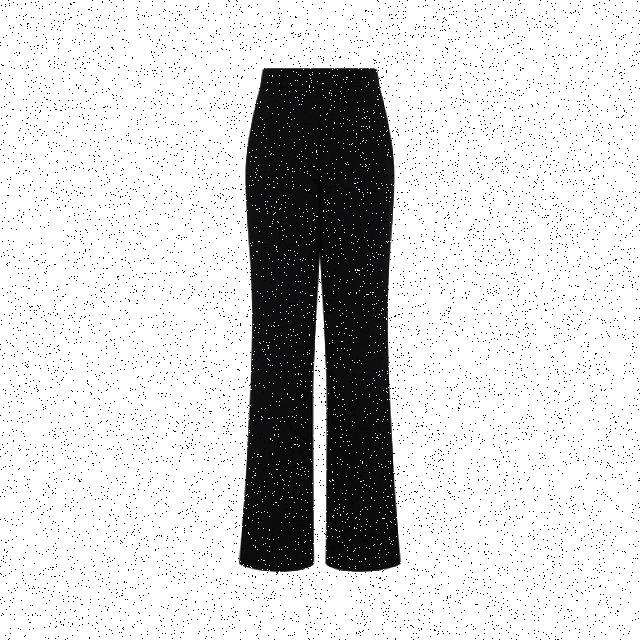dress: (250, 66, 398, 568)
